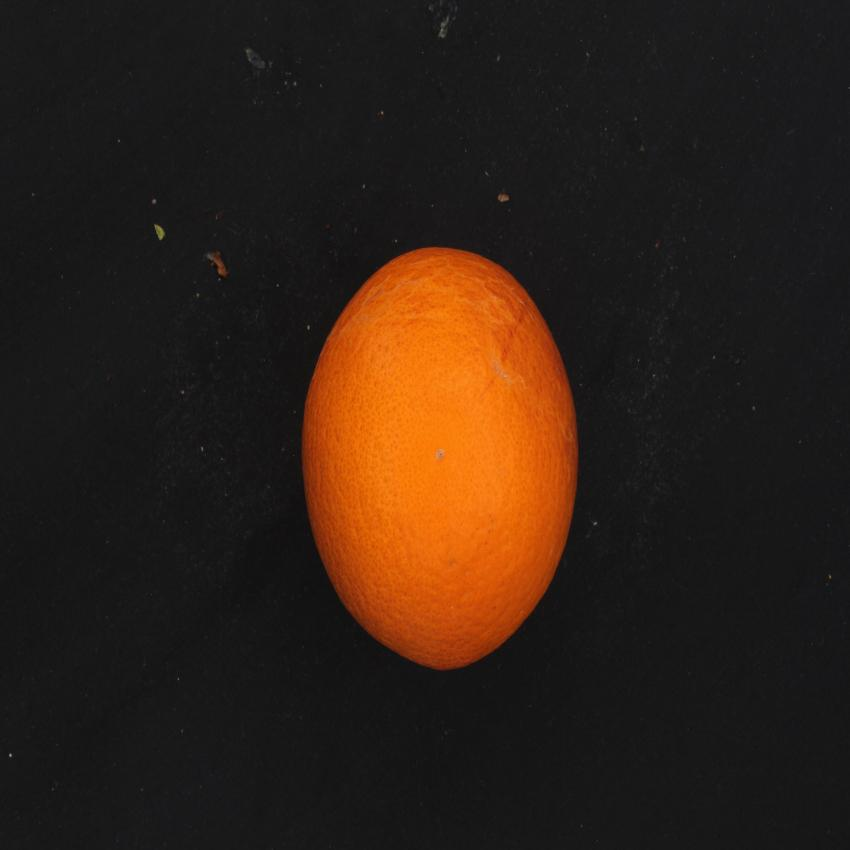Buen estado: (289, 242, 597, 675)
